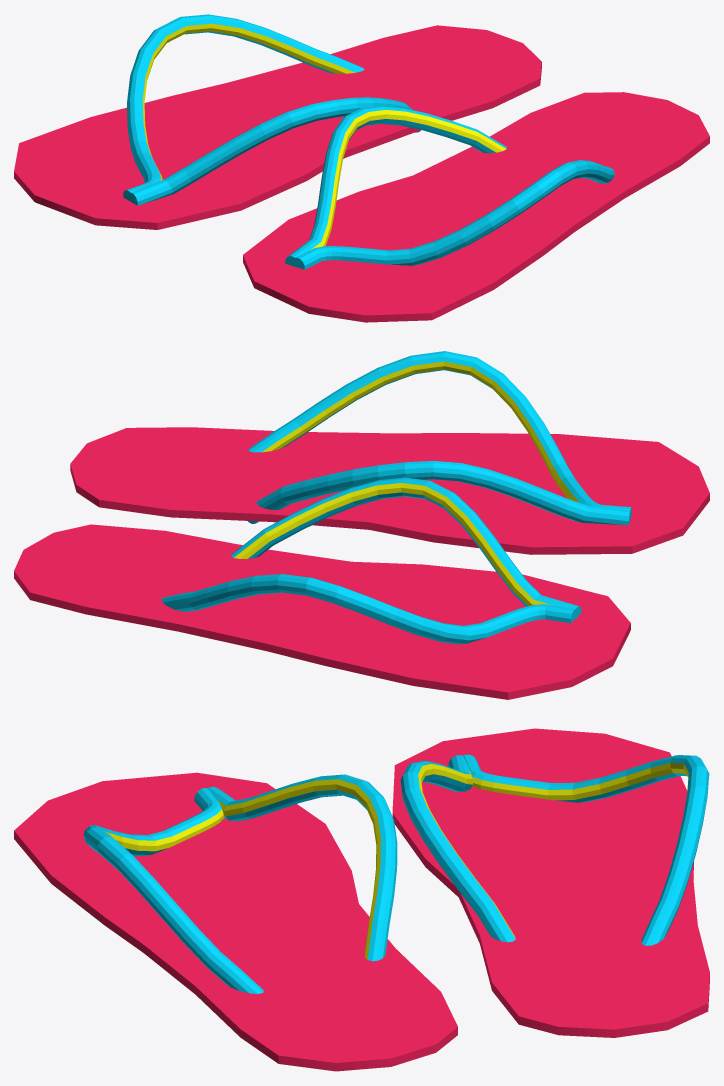
File: crate.obj
The picture shows the model from 3 angles, top to bottom: view 1: azimuth 30°, elevation 25°; view 2: azimuth 150°, elevation 25°; view 3: azimuth 270°, elevation 25°; orthographic projection. The views are drawn at different scales.
Parts seen in each view (by area): view 1: Box004, Box003, Line005, Line006; view 2: Box003, Box004, Line006, Line005; view 3: Box004, Box003, Line006, Line005.
Part boxes in pixels (bbox=[...]): Box004: bbox=[243, 92, 709, 322]; Box003: bbox=[14, 25, 541, 229]; Line005: bbox=[123, 14, 420, 205]; Line006: bbox=[285, 106, 614, 269]; Box003: bbox=[14, 524, 630, 699]; Box004: bbox=[70, 427, 709, 554]; Line006: bbox=[248, 351, 631, 525]; Line005: bbox=[161, 477, 581, 644]; Box004: bbox=[14, 772, 457, 1071]; Box003: bbox=[392, 728, 709, 1037]; Line006: bbox=[83, 774, 397, 993]; Line005: bbox=[400, 754, 709, 945].
Bounding box in the file's own units: 954235 × 150961 × 838809.
